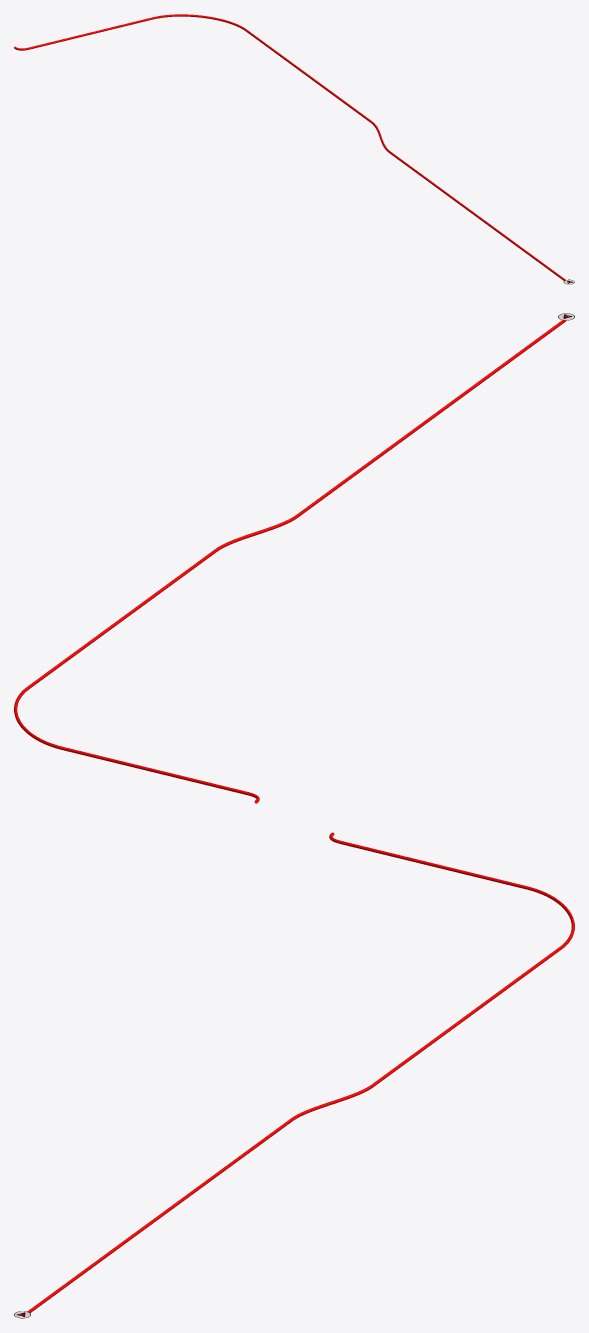
The model's file is route_c2c04c46-8704-4903-95d8-140933eb3e64_de_single.glb.
3 views of the same model, one above another, from view 1: azimuth 30°, elevation 25°; view 2: azimuth 150°, elevation 25°; view 3: azimuth 330°, elevation 25° (orthographic). The views are drawn at different scales.
Parts seen in each view (by area): view 1: Orthopädische Versorgungsgemeinschaft Kreis Miesbach.001; view 2: Orthopädische Versorgungsgemeinschaft Kreis Miesbach.001; view 3: Orthopädische Versorgungsgemeinschaft Kreis Miesbach.001.
Part boxes in pixels (x1,y1,x2,y2): Orthopädische Versorgungsgemeinschaft Kreis Miesbach.001: (14, 14, 565, 280); Orthopädische Versorgungsgemeinschaft Kreis Miesbach.001: (14, 320, 566, 803); Orthopädische Versorgungsgemeinschaft Kreis Miesbach.001: (22, 832, 574, 1318).
Size of the model in its own units: 8.04 by 0.109 by 27.64.
